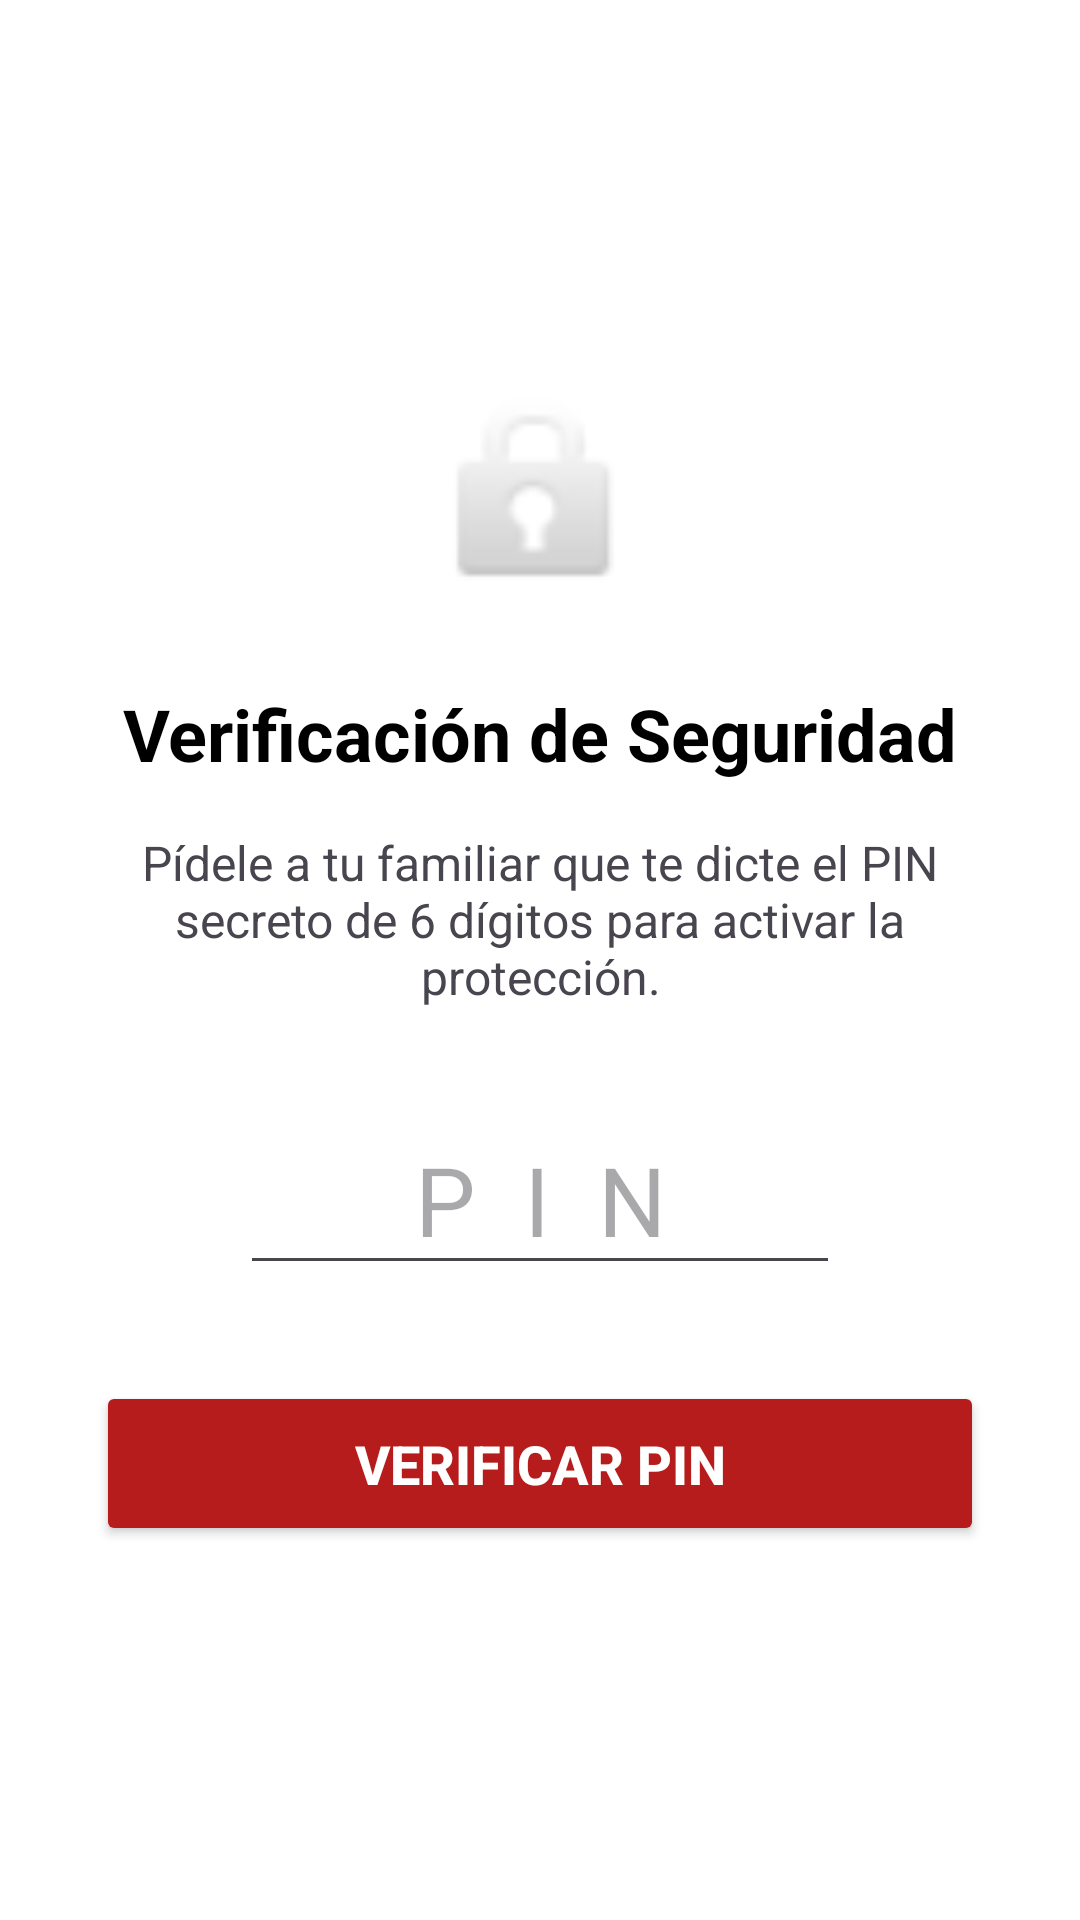

Named icons in this screenshot (1080px×1920px) and their bounding boxes, (x1, y1, x2, y2):
lock idle: (458, 473, 609, 576)
